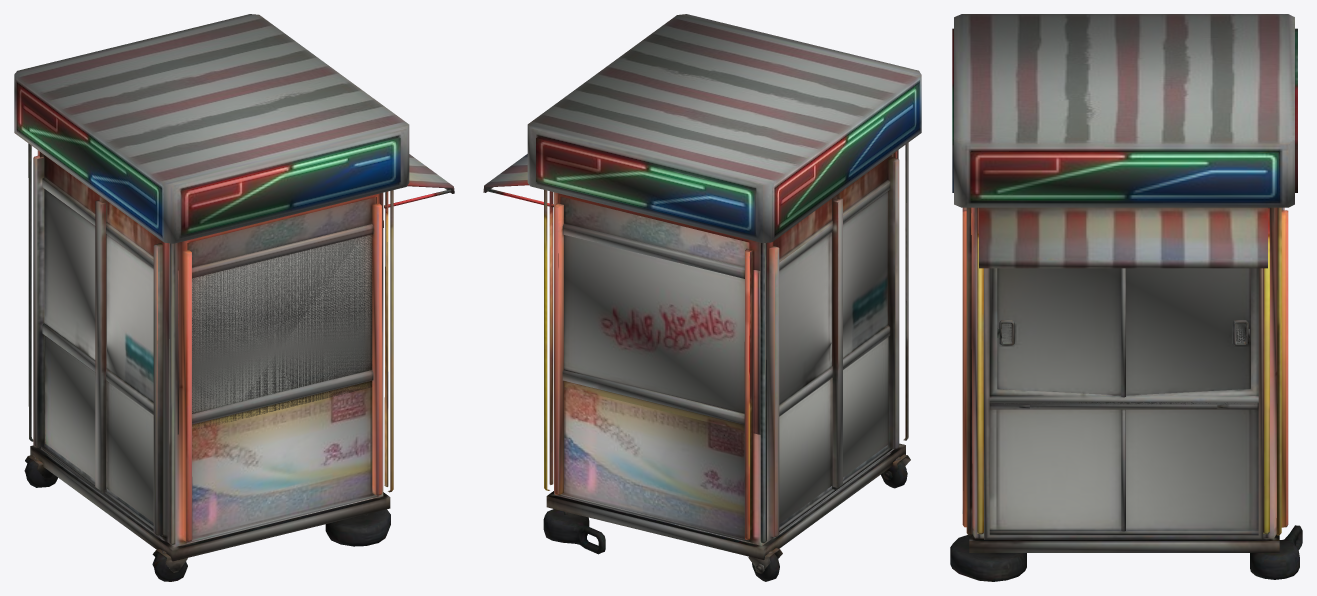
File: betelstand.glb
3 views of the same model, side by side, from view 1: azimuth 30°, elevation 25°; view 2: azimuth 150°, elevation 25°; view 3: azimuth 270°, elevation 25° (orthographic). The views are drawn at different scales.
Visible parts, largest first — view 1: tripo_node_3187d05b-0ff3-4521-9db0-cab86614b79a; view 2: tripo_node_3187d05b-0ff3-4521-9db0-cab86614b79a; view 3: tripo_node_3187d05b-0ff3-4521-9db0-cab86614b79a.
Part boxes in pixels (x1,y1,x2,y2): tripo_node_3187d05b-0ff3-4521-9db0-cab86614b79a: (14,14,454,581); tripo_node_3187d05b-0ff3-4521-9db0-cab86614b79a: (483,14,921,581); tripo_node_3187d05b-0ff3-4521-9db0-cab86614b79a: (950,14,1302,581).
Size of the model in its own units: 0.7637 by 0.998 by 0.7168.
1 material, 1 textured.
